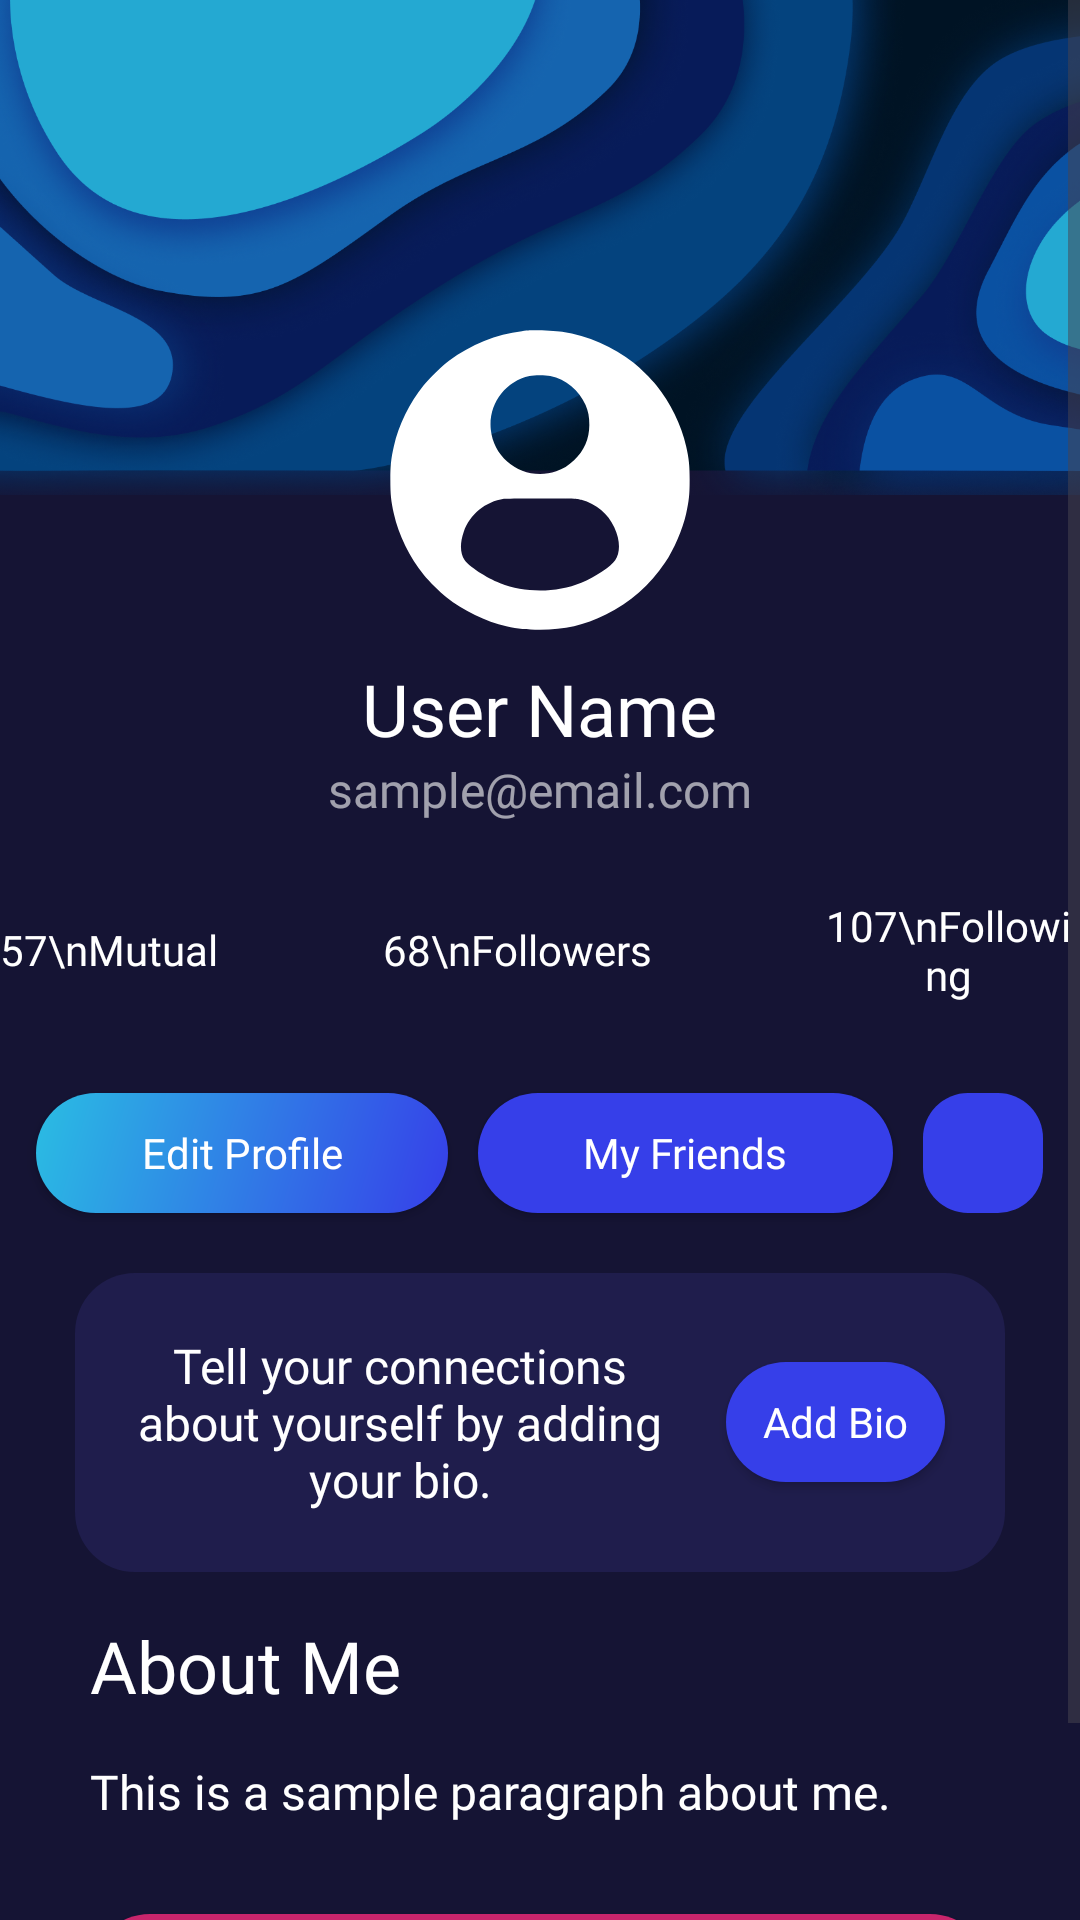

Screen size 1080*1920. Icon name, then its center in pixels as point (x, y):
profile user: point (540, 465)
